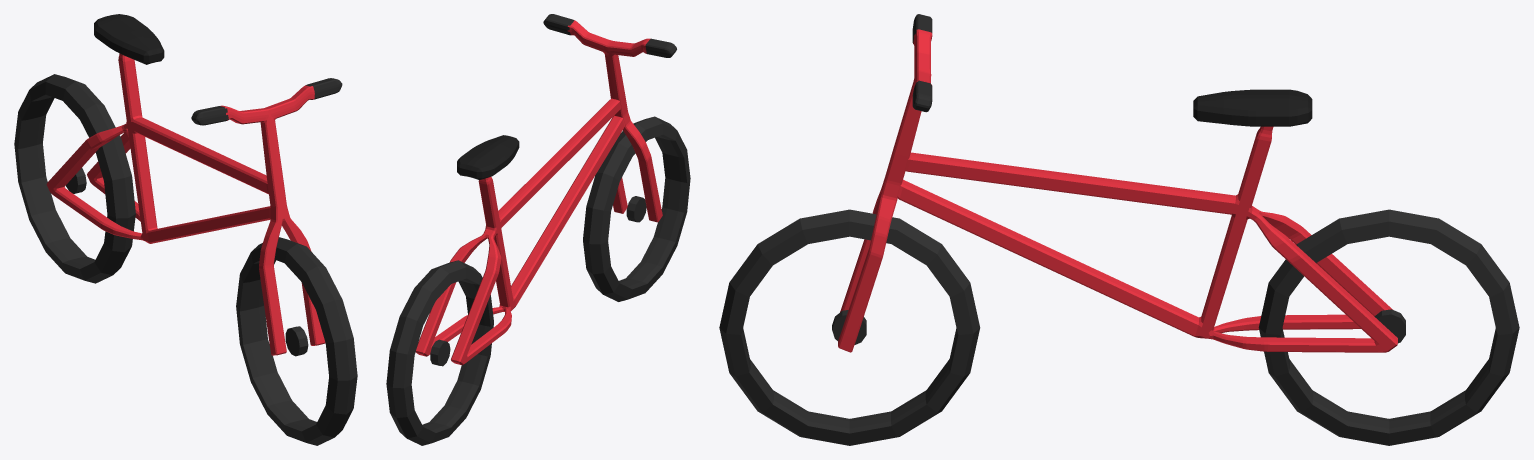
The picture shows the model from 3 angles, left to right: view 1: azimuth 30°, elevation 25°; view 2: azimuth 150°, elevation 25°; view 3: azimuth 270°, elevation 25°; orthographic projection. The views are drawn at different scales.
Parts seen in each view (by area): view 1: FrontWheel, BackWheel, Frame, Handle, Saddle; view 2: Frame, FrontWheel, BackWheel, Handle, Saddle; view 3: Frame, FrontWheel, BackWheel, Handle, Saddle.
Boxes of the visible parts, x1=… form: FrontWheel: x1=236, y1=237, x2=357, y2=445; BackWheel: x1=14, y1=74, x2=135, y2=283; Frame: x1=46, y1=53, x2=270, y2=243; Handle: x1=191, y1=78, x2=342, y2=355; Saddle: x1=94, y1=14, x2=164, y2=64; Frame: x1=415, y1=98, x2=624, y2=365; FrontWheel: x1=583, y1=116, x2=690, y2=301; BackWheel: x1=386, y1=260, x2=493, y2=445; Handle: x1=543, y1=14, x2=676, y2=222; Saddle: x1=457, y1=135, x2=519, y2=179; Frame: x1=897, y1=126, x2=1397, y2=352; FrontWheel: x1=719, y1=209, x2=980, y2=445; BackWheel: x1=1258, y1=209, x2=1519, y2=445; Handle: x1=838, y1=14, x2=932, y2=352; Saddle: x1=1193, y1=89, x2=1312, y2=126.
Bounding box in the file's own units: 0.4744 × 1 × 1.85.
